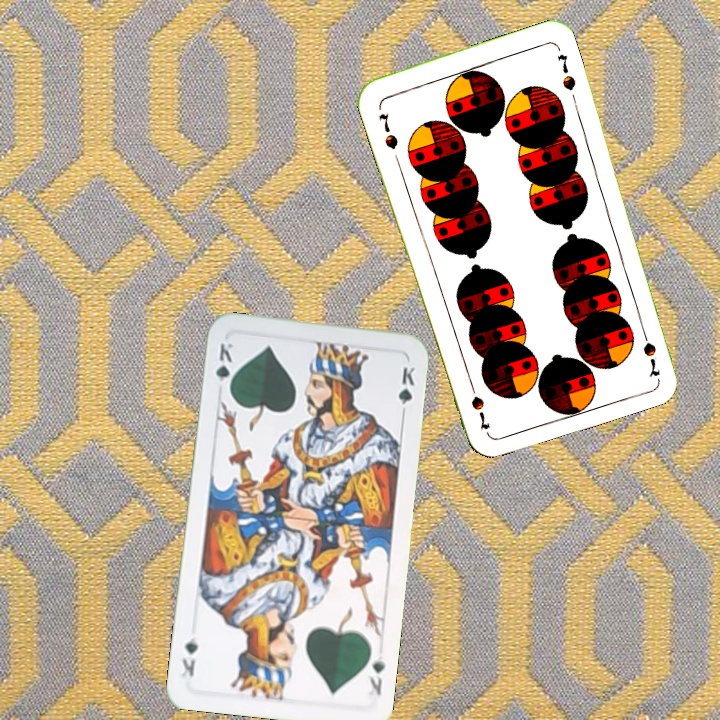GK: (211, 339, 235, 396), (363, 652, 388, 697)
S7: (636, 321, 663, 379), (375, 109, 401, 152)
